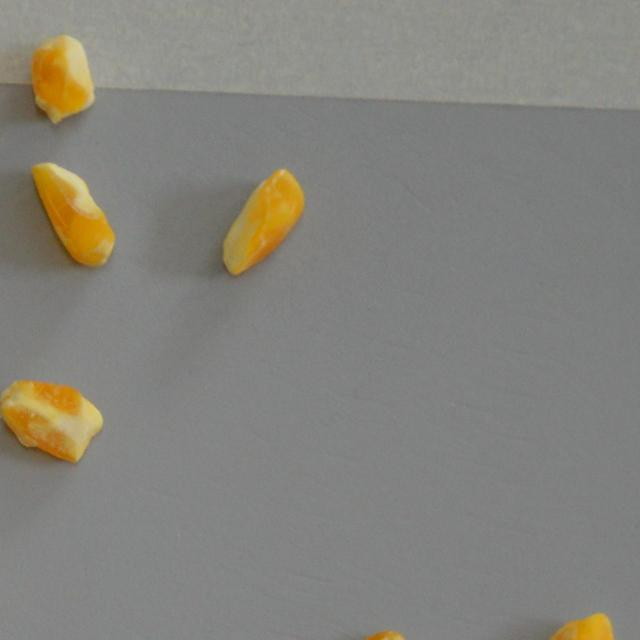pelicula: (220, 168, 306, 276), (30, 160, 116, 266), (0, 378, 104, 464), (28, 34, 95, 124), (530, 612, 616, 640), (327, 628, 410, 640)
